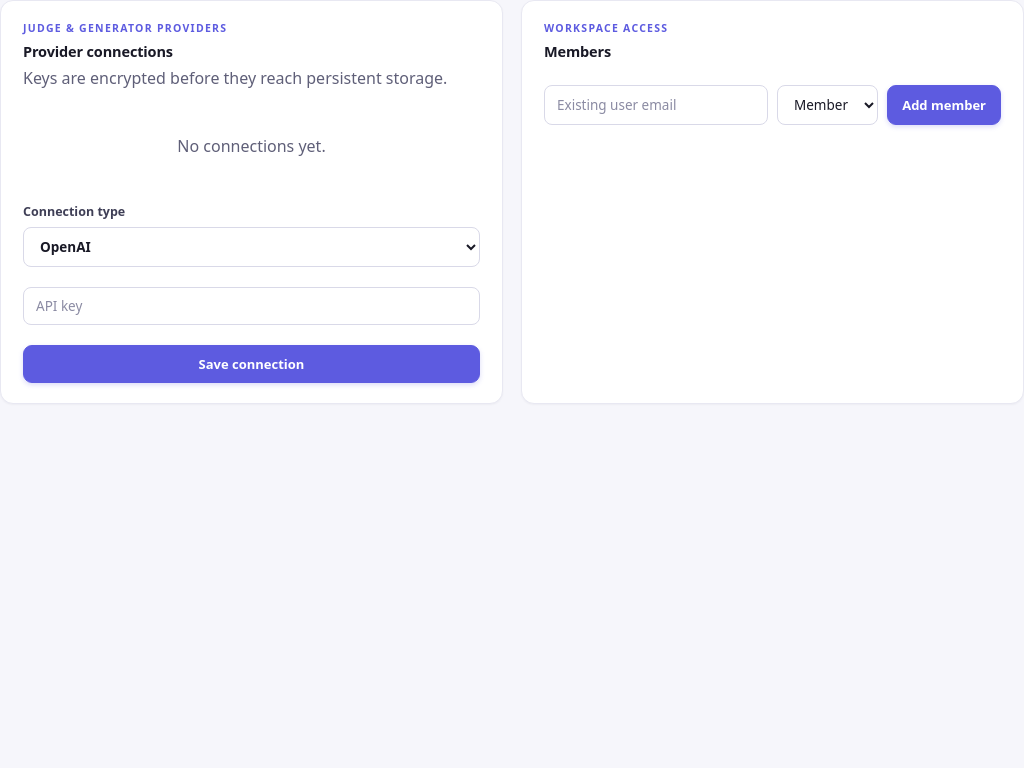
Test: SettingsPanel connections › keeps entered values and shows the error when verification fails
This screenshot has width=1024, height=768.
Select "OpenAI-compatible" in the dropdown labelled "Connection type" at (252, 247), box [23,227,480,267]
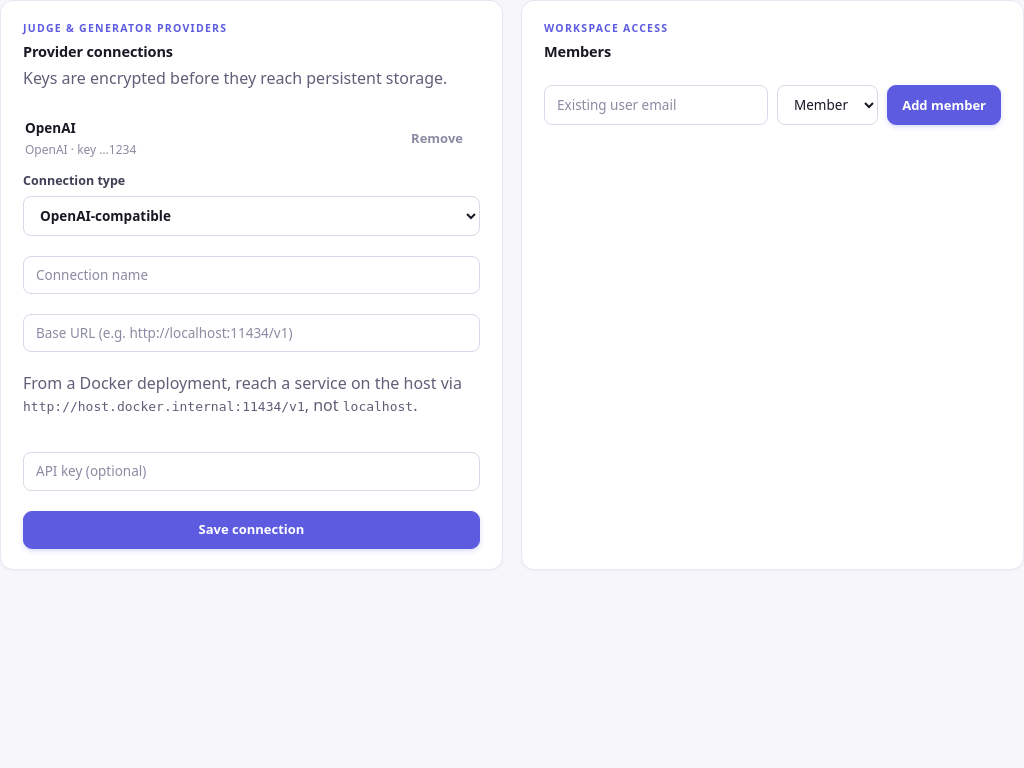
Type "My Gateway" into the field with placeholder "Connection name" at (252, 275), box [23,256,480,294]
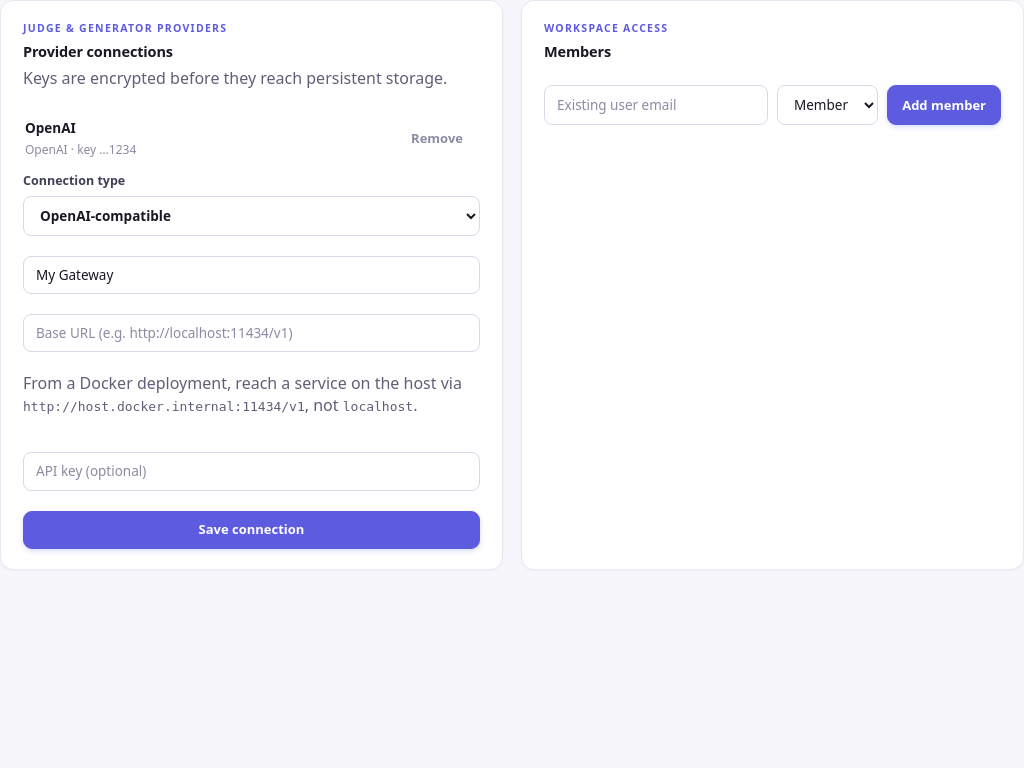
Type "http://localhost:11434/v1" into the field with placeholder "Base URL (e.g. http://localhost:11434/v1)" at (252, 333), box [23,314,480,352]
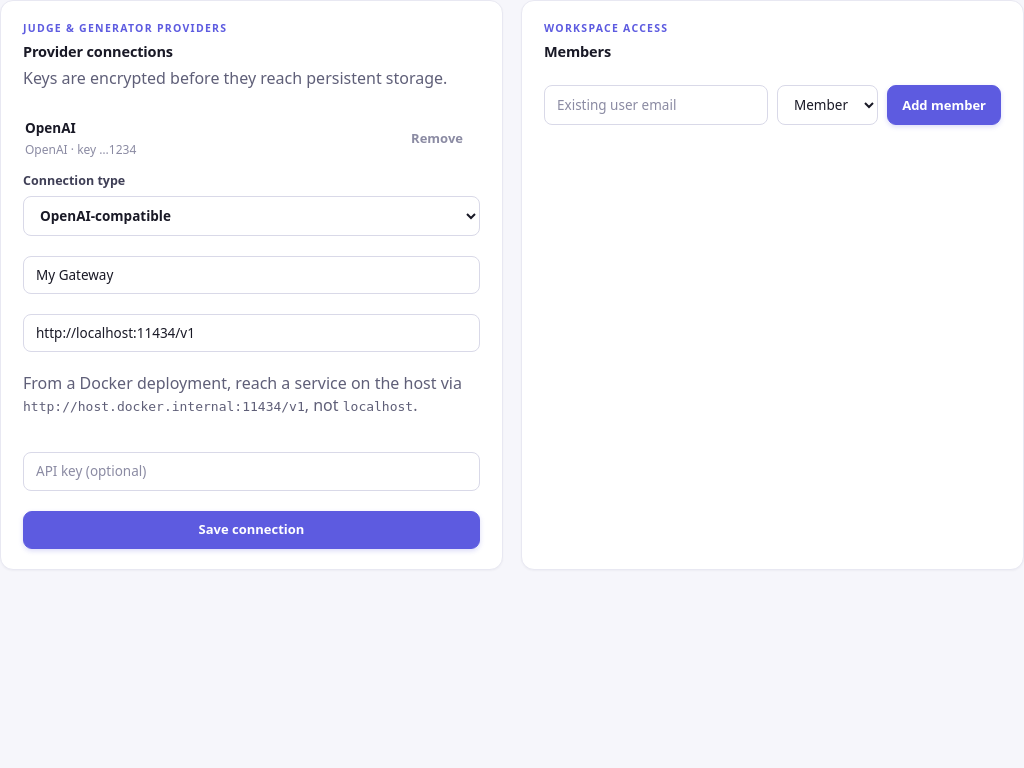
Click the button "Save connection" at (252, 530), box [23,511,480,549]
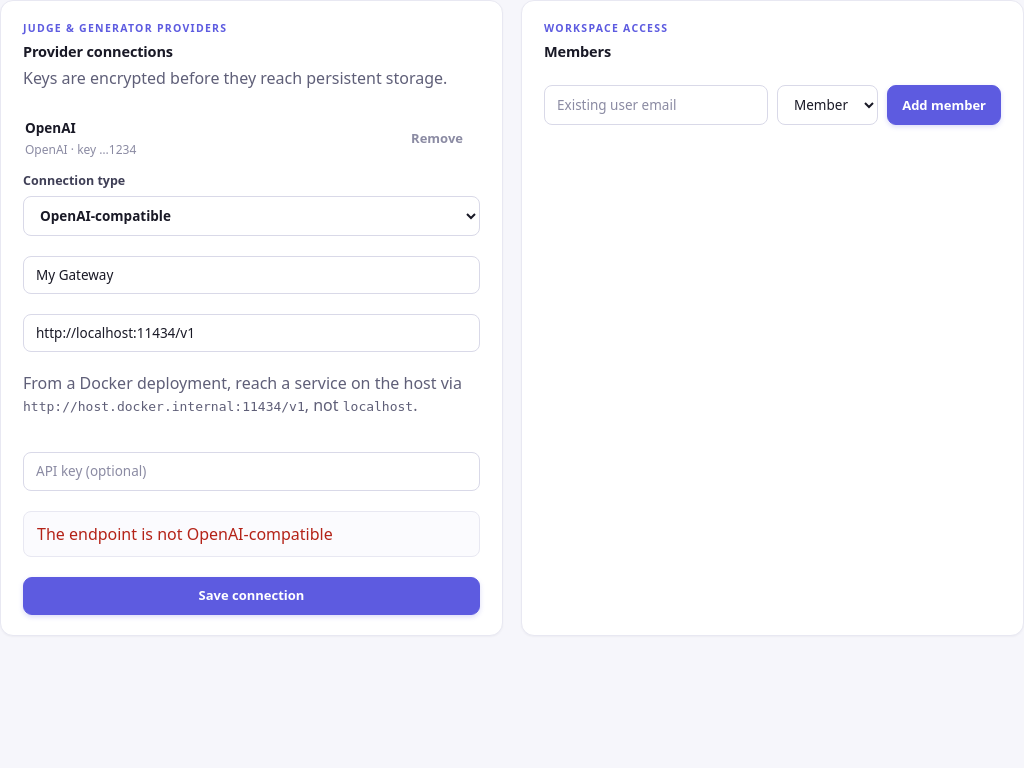
Now the text "The endpoint is not OpenAI-compatible" is shown, box [23,511,480,557]
